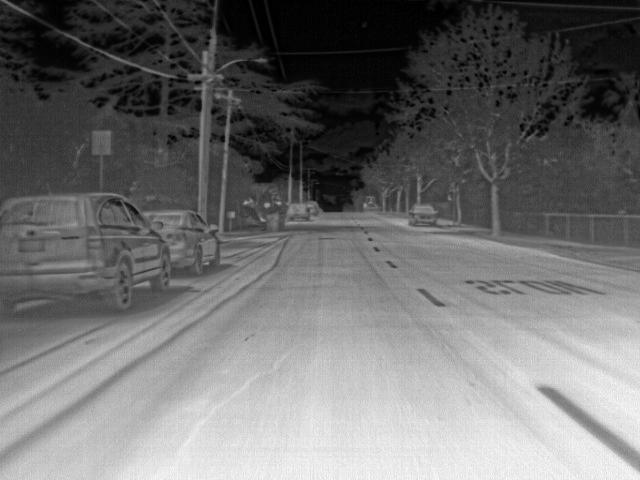car: (1, 191, 172, 318), (135, 208, 222, 280), (409, 202, 438, 226), (286, 201, 312, 221), (360, 195, 376, 212), (311, 198, 325, 216)
person: (256, 200, 272, 219), (240, 198, 254, 219), (273, 198, 285, 216)
